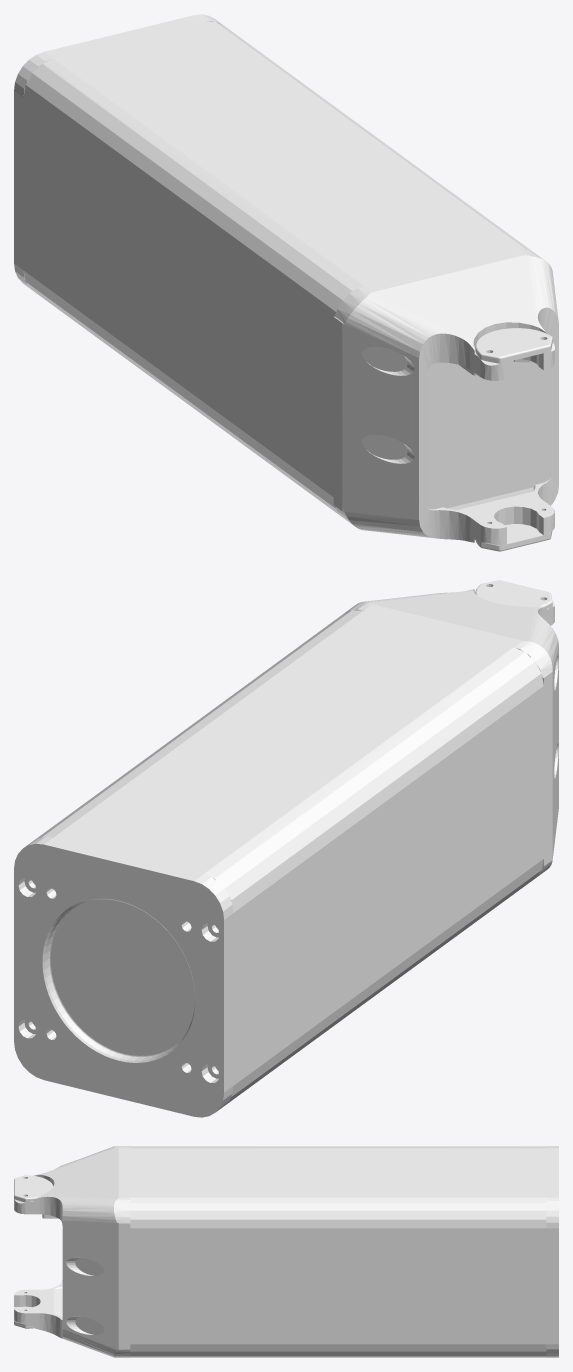
Rendered from rh_hand_base_link_vis.obj.
3 views of the same model, one above another, from view 1: azimuth 30°, elevation 25°; view 2: azimuth 150°, elevation 25°; view 3: azimuth 270°, elevation 25° (orthographic). The views are drawn at different scales.
Visible parts, largest first — view 1: rh_hand_base_link; view 2: rh_hand_base_link; view 3: rh_hand_base_link.
Boxes of the visible parts, x1,y1,x2,y2 form: rh_hand_base_link: (14,14,558,551); rh_hand_base_link: (14,580,558,1117); rh_hand_base_link: (14,1146,558,1357).
Bounding box in the file's own units: 0.07 × 0.075 × 0.2345.
1 material, 1 textured.
